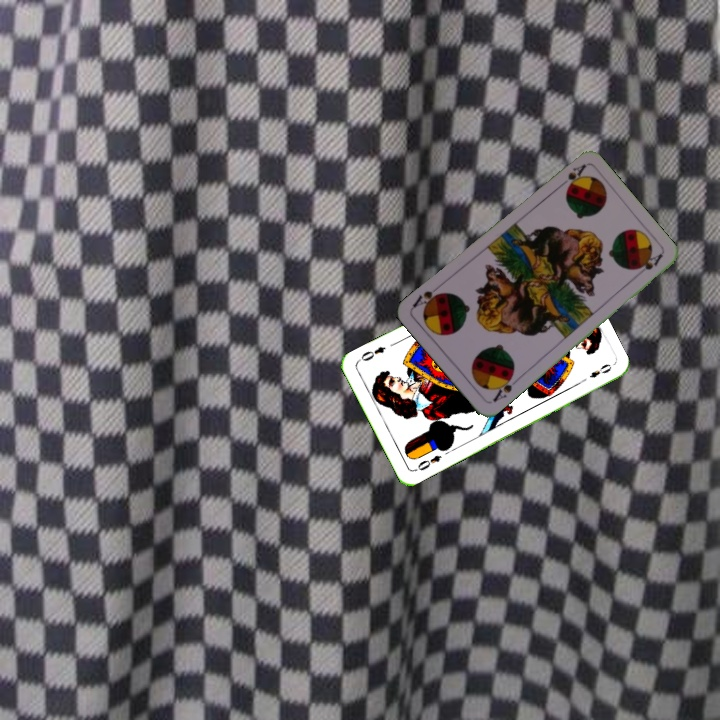EO: (411, 451, 444, 474)
SA: (489, 370, 522, 405), (554, 160, 588, 191)
